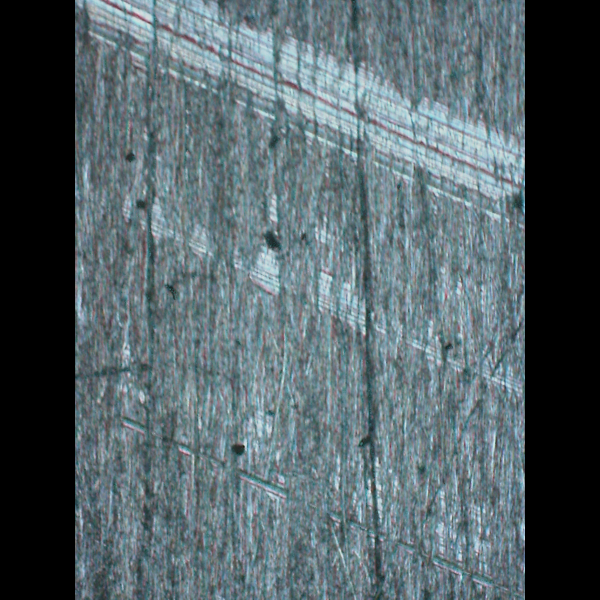d: (75, 167, 523, 399), (81, 0, 523, 233)
